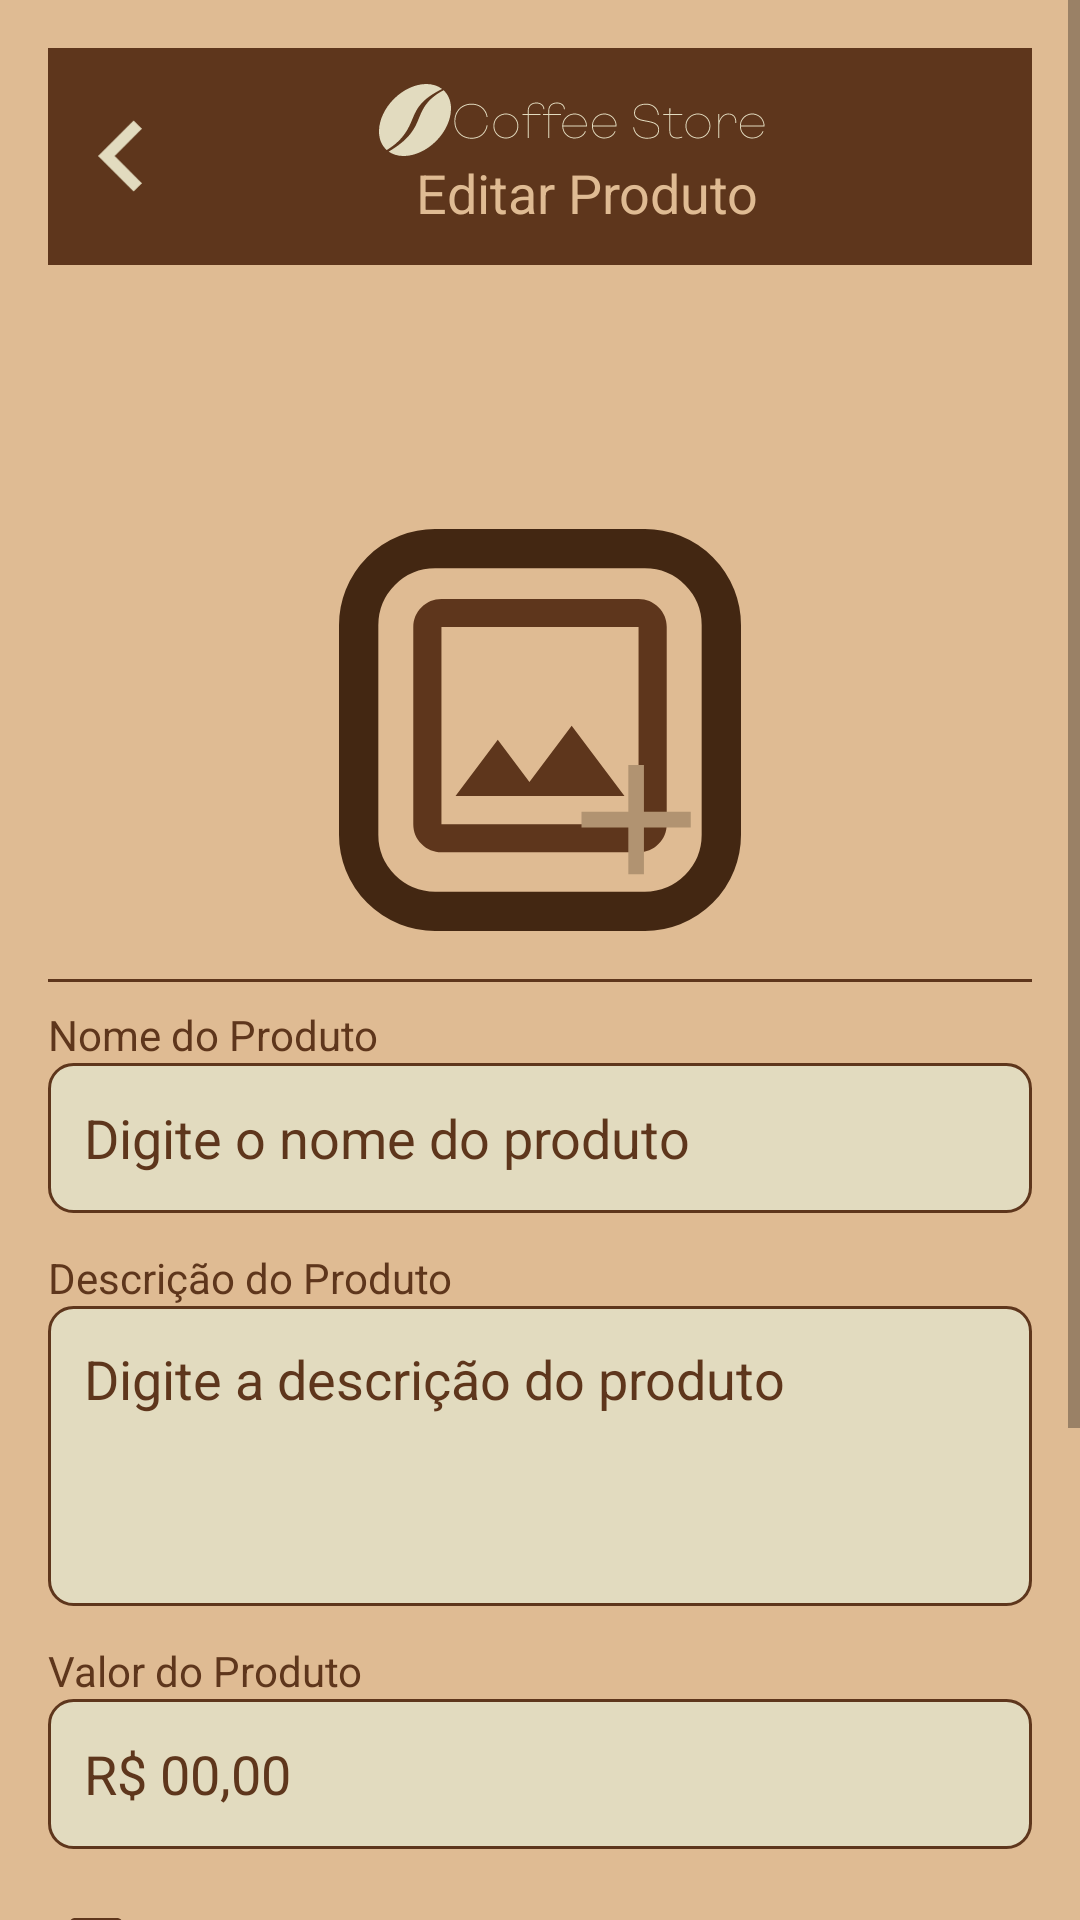

Screen size 1080×1920. Icon name, then its box in pixels as (x1, y1, x2, y2):
Voltar: (98, 120, 142, 192)
